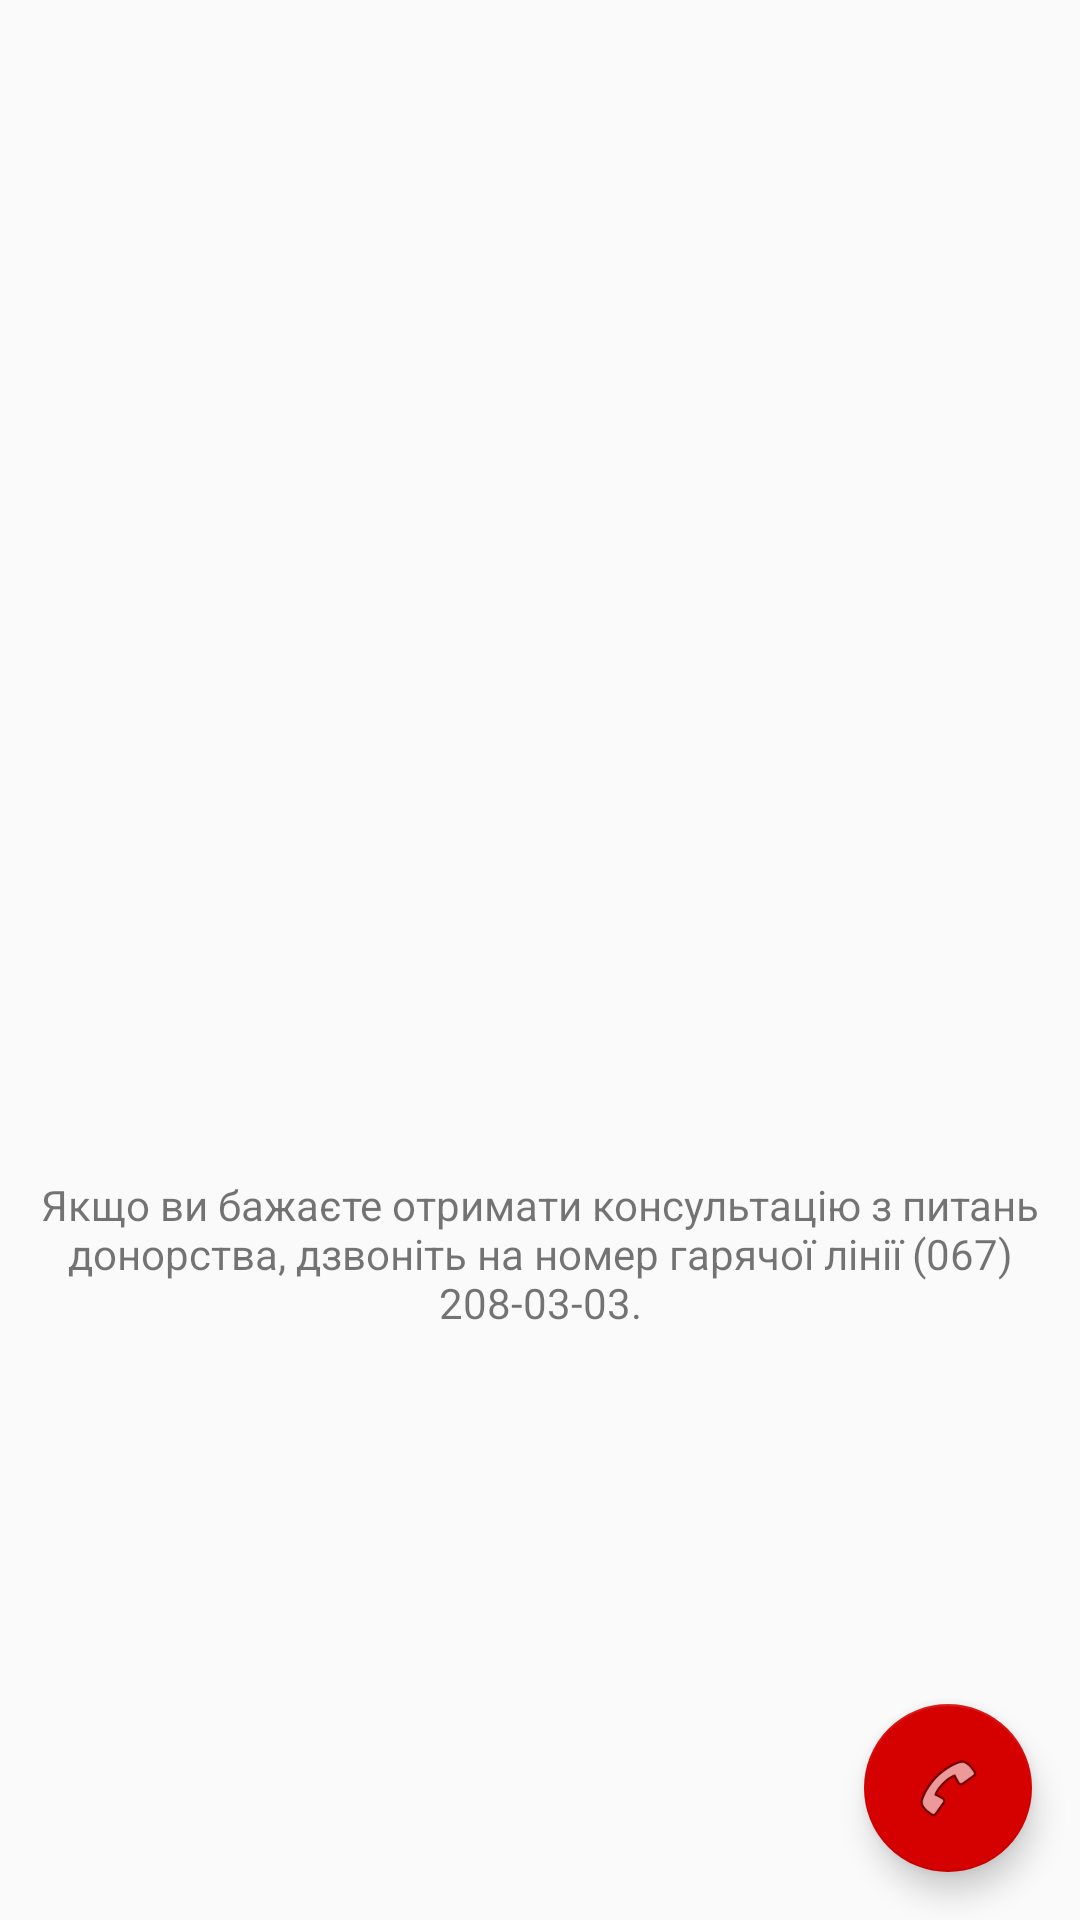

Named icons in this screenshot (1080px x 1920px) and their centers, [x,y]:
call: [948,1788]
